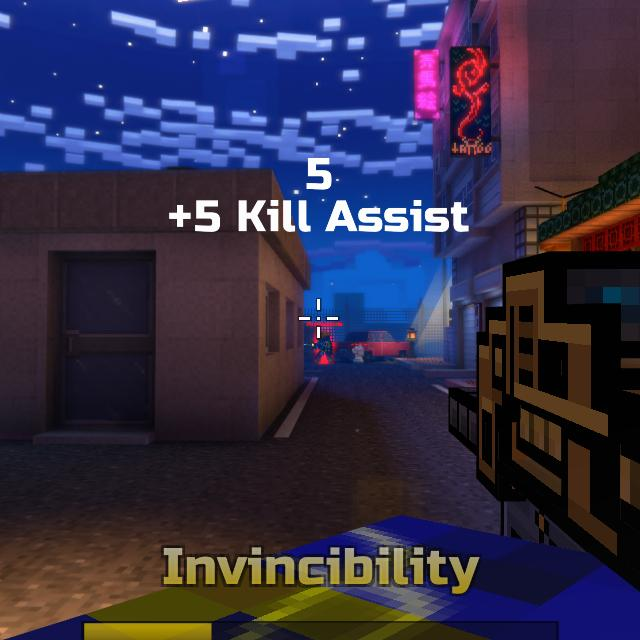Enemy: (311, 332, 333, 364)
